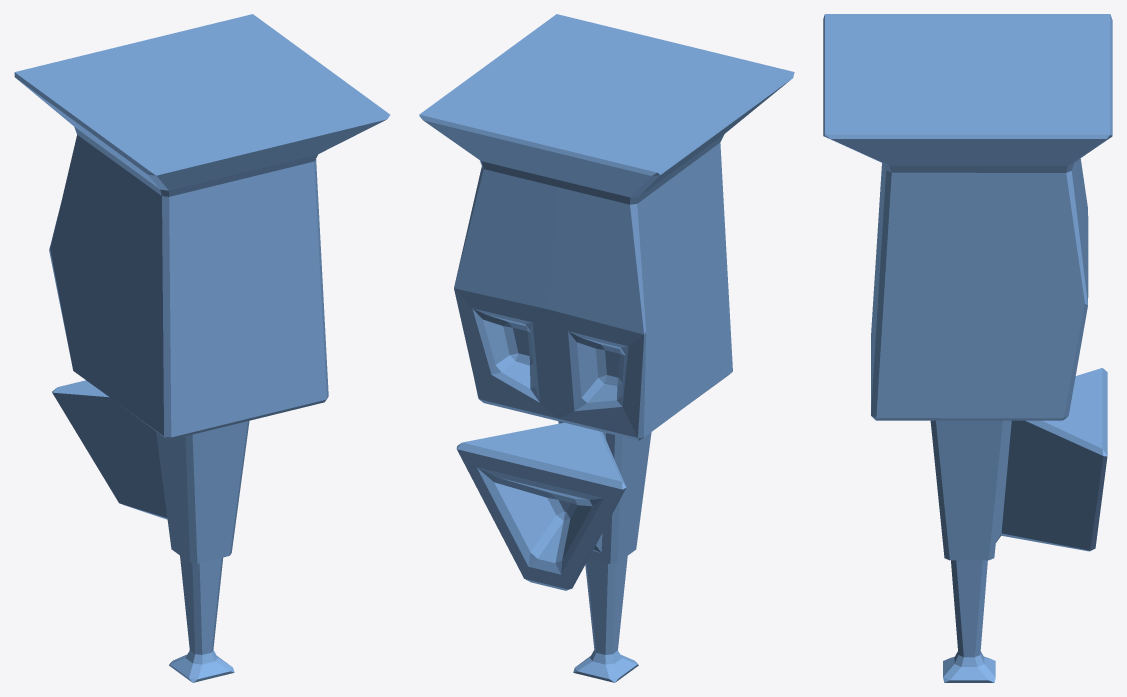
File: modelo1.glb
3 renders of one model, left to right at view 1: azimuth 30°, elevation 25°; view 2: azimuth 150°, elevation 25°; view 3: azimuth 270°, elevation 25°, orthographic. The views are drawn at different scales.
Visible parts, largest first — view 1: Cube; view 2: Cube; view 3: Cube.
Boxes of the visible parts, bbox=[...] form: Cube: bbox=[14, 14, 390, 682]; Cube: bbox=[419, 14, 794, 682]; Cube: bbox=[823, 14, 1112, 682].
Size of the model in its own units: 2.08 by 4.74 by 2.08.
